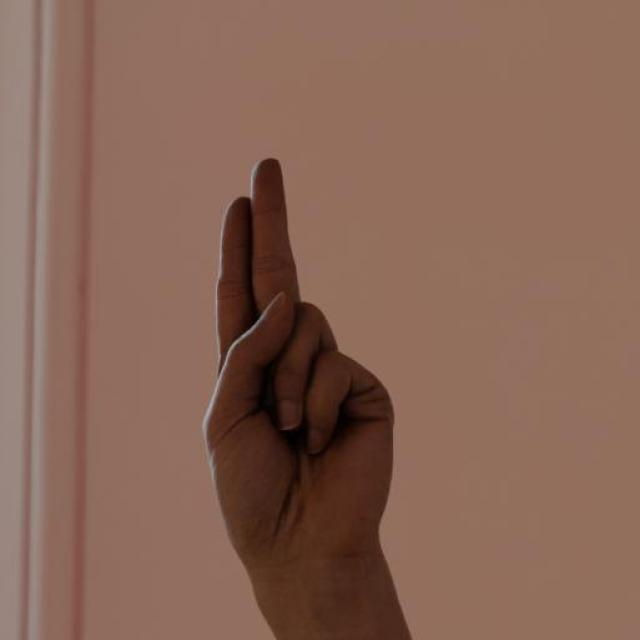U: (189, 155, 396, 586)
